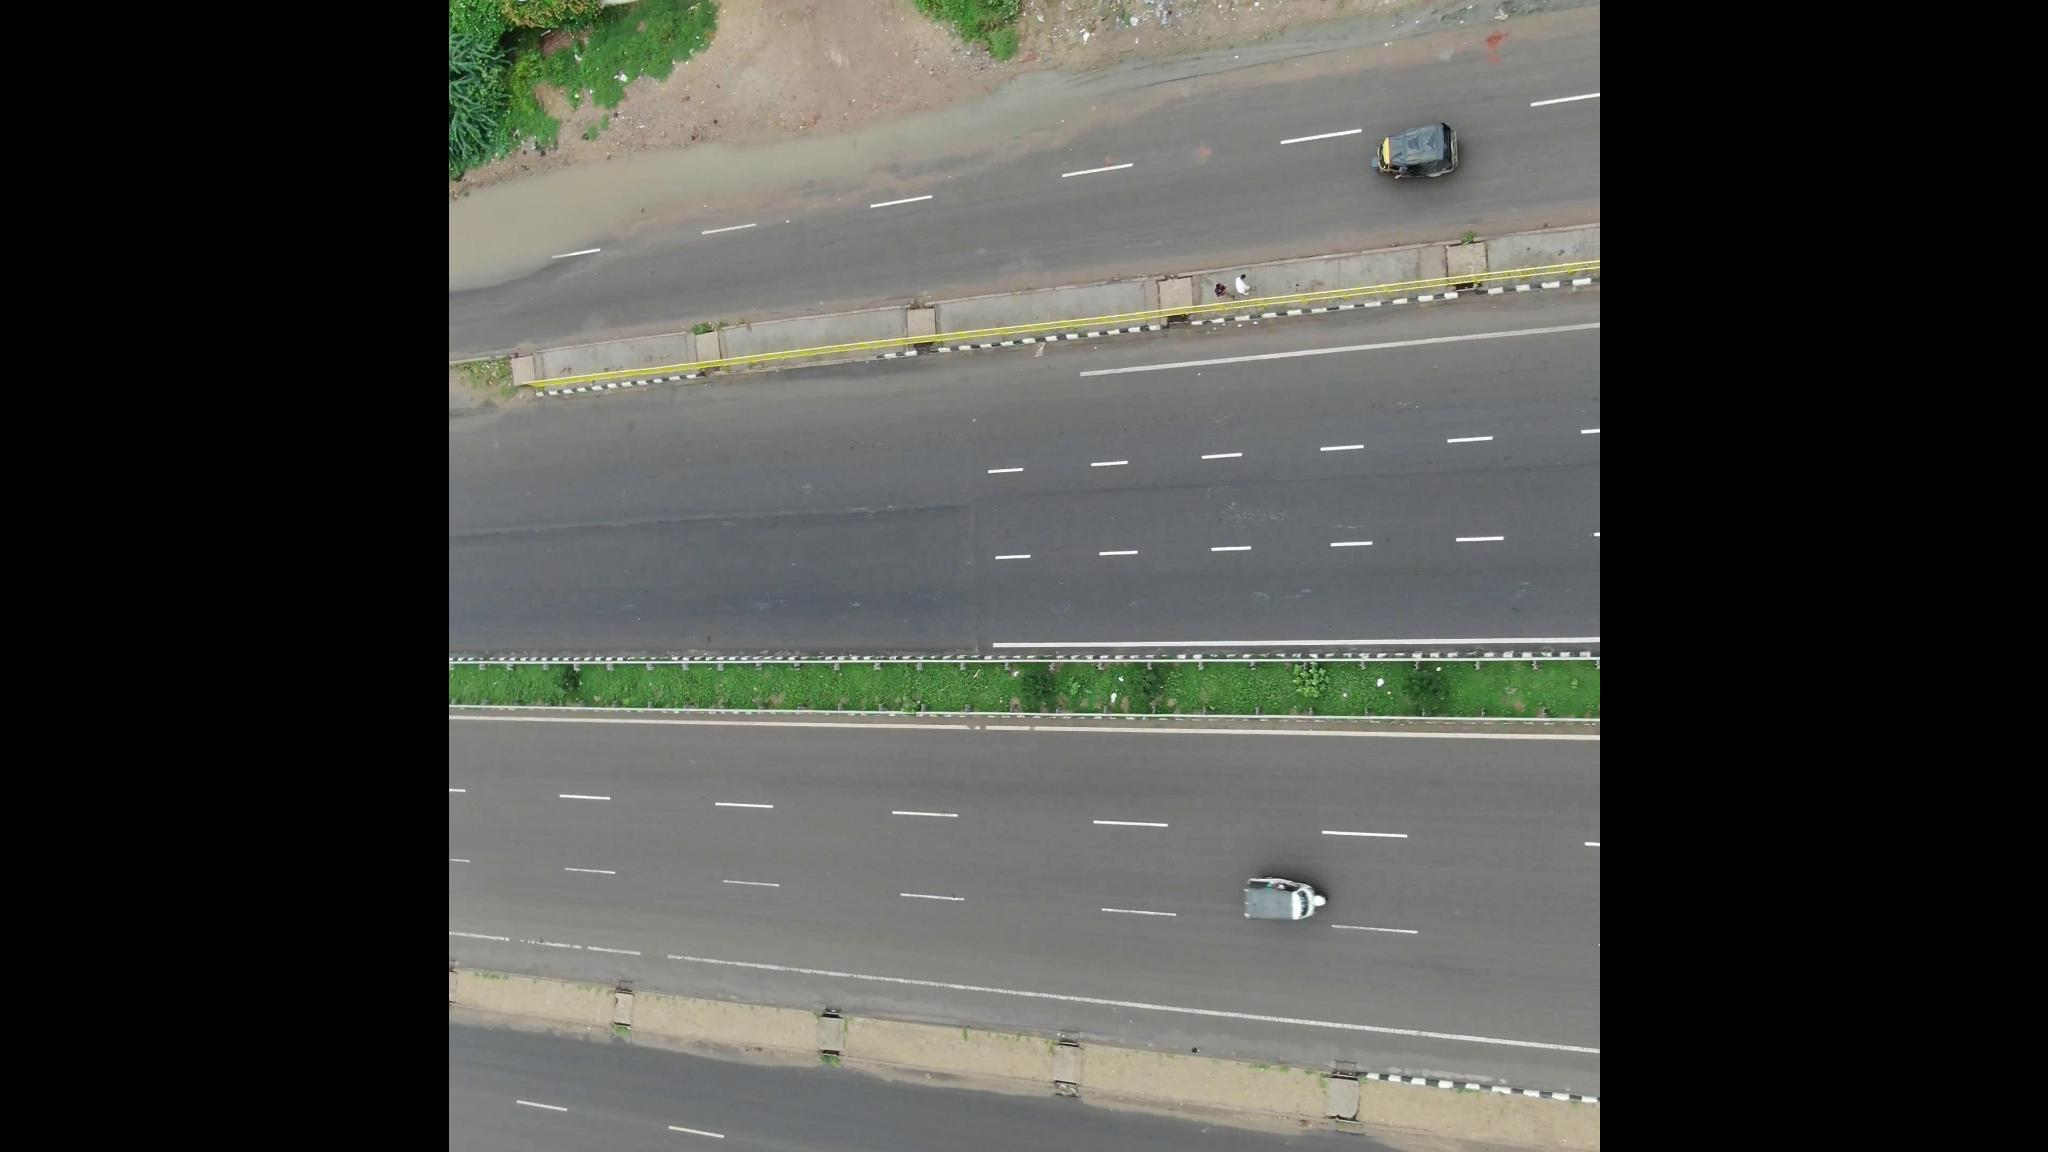Waterlogging: (617, 105, 999, 233), (452, 153, 670, 295), (1003, 37, 1305, 129)
